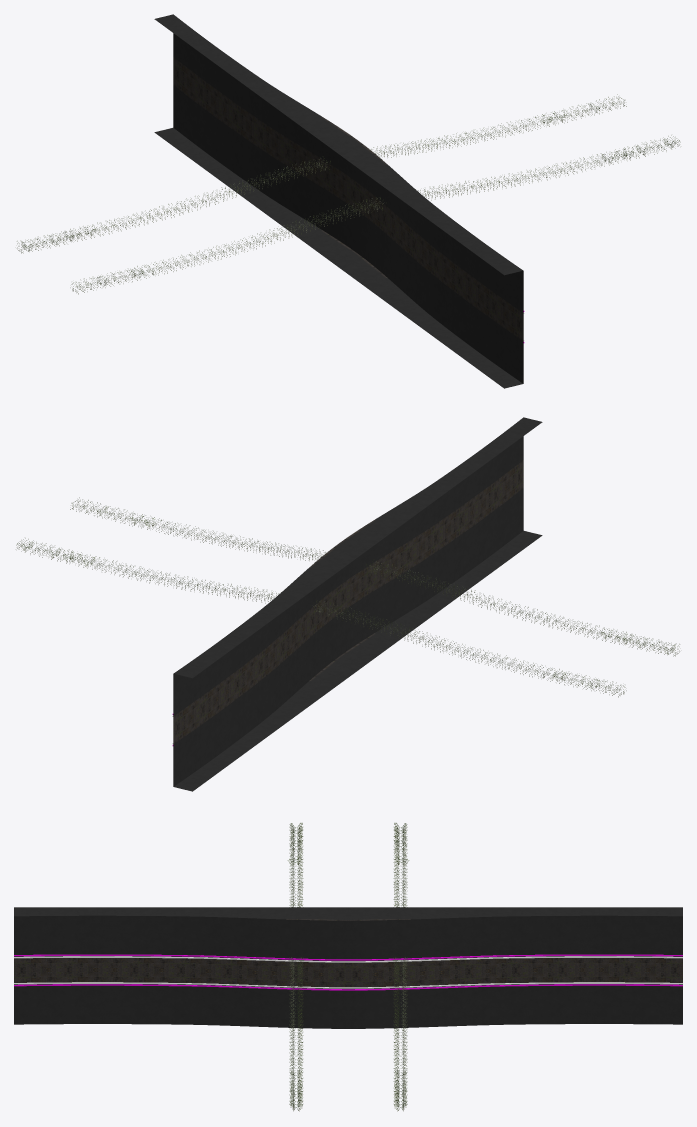
Rendered from BaseJapan-Bridge.fbx.
3 renders of one model, top to bottom at view 1: azimuth 30°, elevation 25°; view 2: azimuth 150°, elevation 25°; view 3: azimuth 270°, elevation 25°, orthographic. The views are drawn at different scales.
Visible parts, largest first — view 1: MidPath, 123; view 2: MidPath, 123; view 3: MidPath, 123.
Boxes of the visible parts, bbox=[...] form: MidPath: bbox=[154, 14, 524, 388]; 123: bbox=[17, 94, 680, 294]; MidPath: bbox=[172, 417, 542, 791]; 123: bbox=[16, 497, 679, 697]; MidPath: bbox=[14, 907, 682, 1028]; 123: bbox=[287, 823, 409, 1111].
Size of the model in its own units: 35 by 6.25 by 35.
